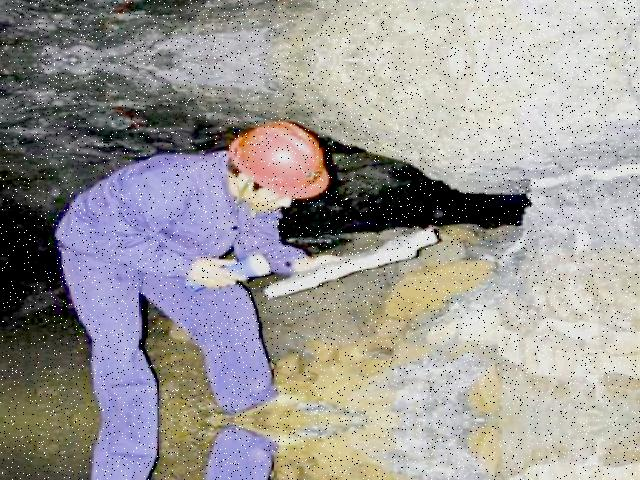Helmet: (226, 117, 338, 206)
